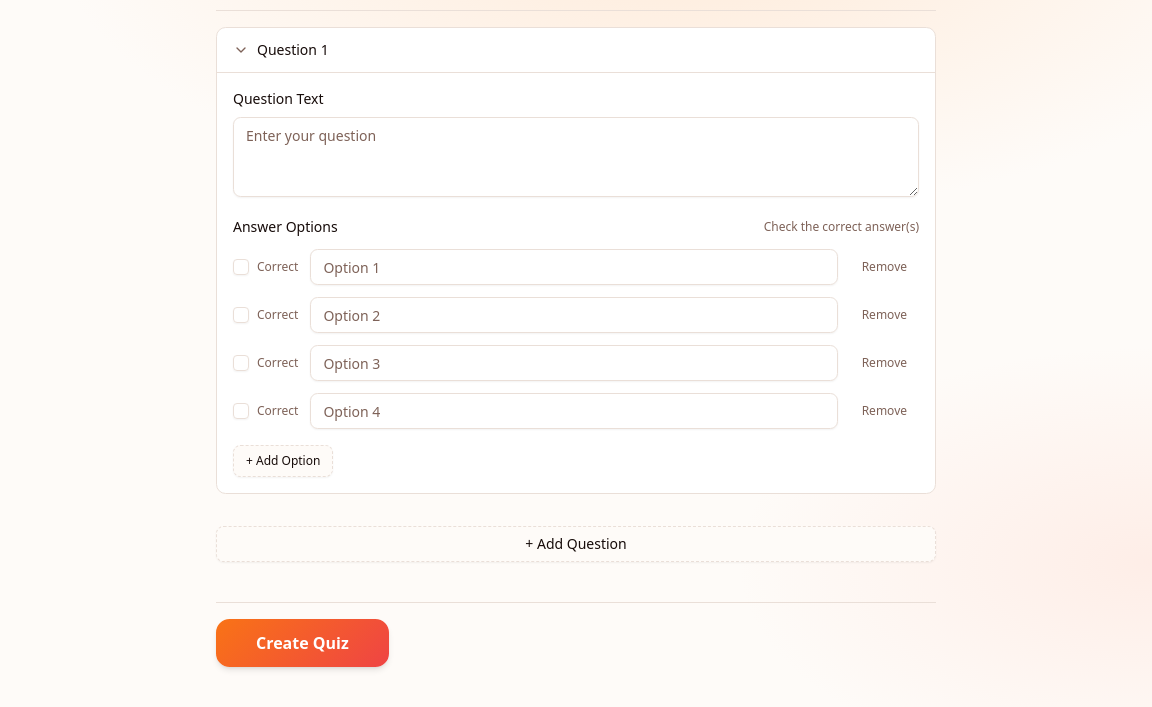
Scenario: QuizForm › shows inline error when title is blank on submit
(page scrolled)
What coordinates should you click on to do the following:
click the button "Create Quiz"
I would click on:
 (302, 643)
Its box is [216,619,389,667].
(page scrolled)
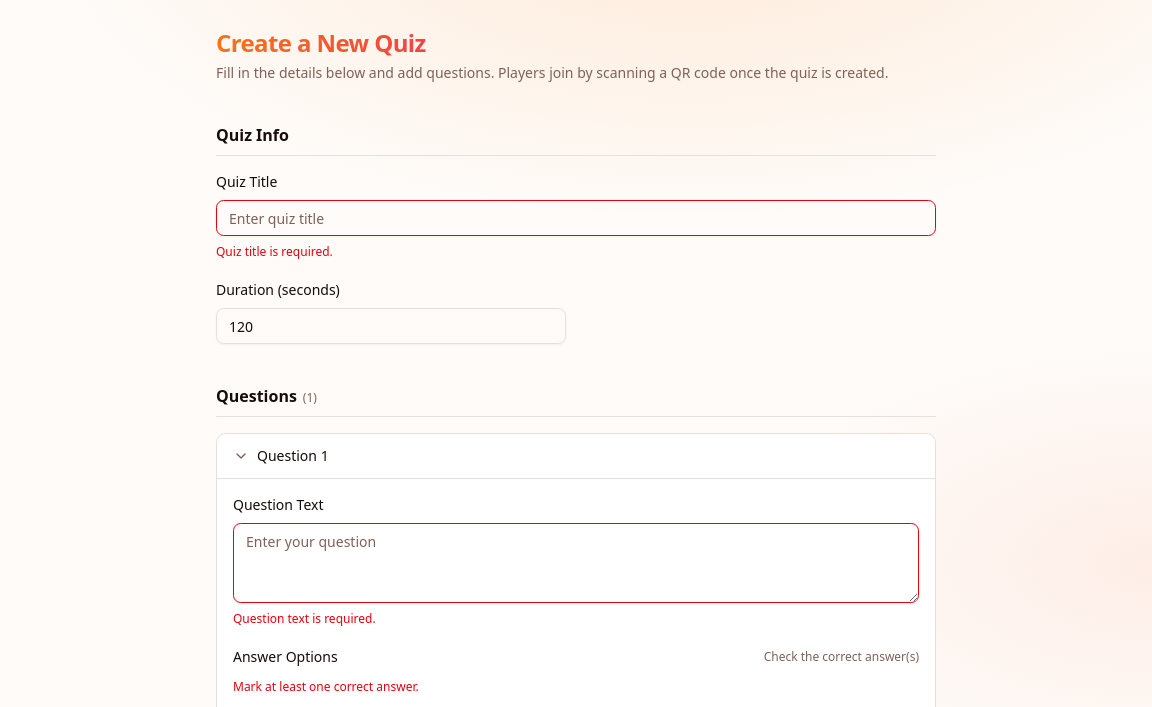
Now the text "Quiz title is required." is shown, box [216,243,333,260]
